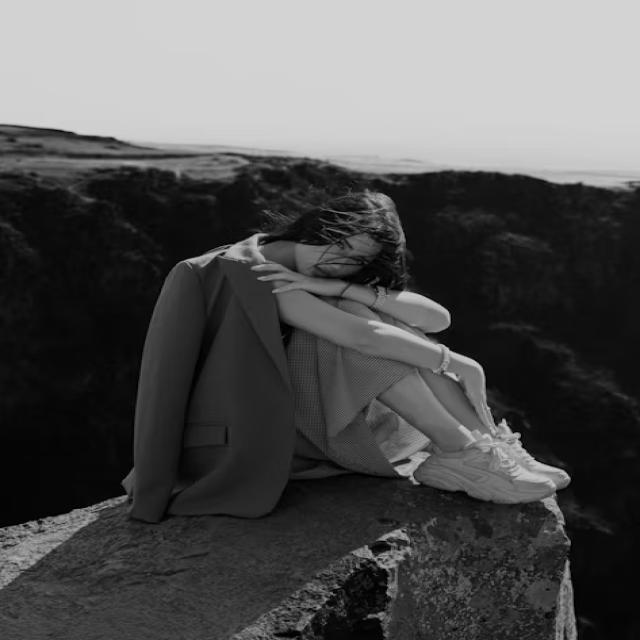Edited images: (132, 187, 598, 532)
